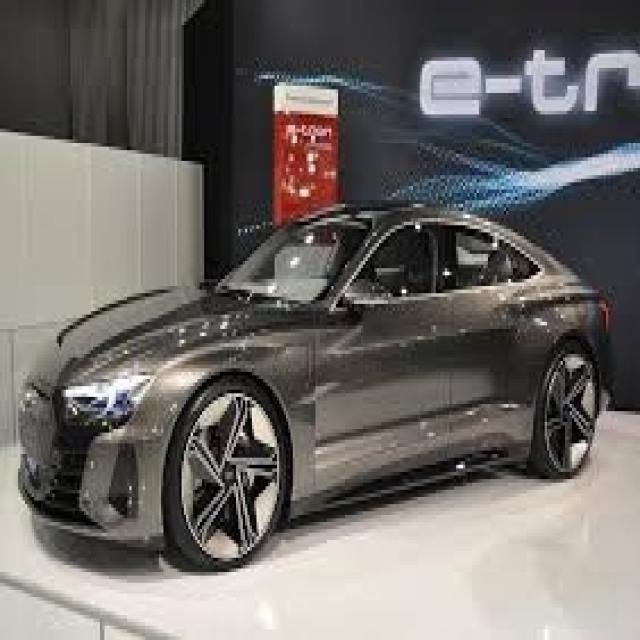black: (17, 201, 634, 551)
